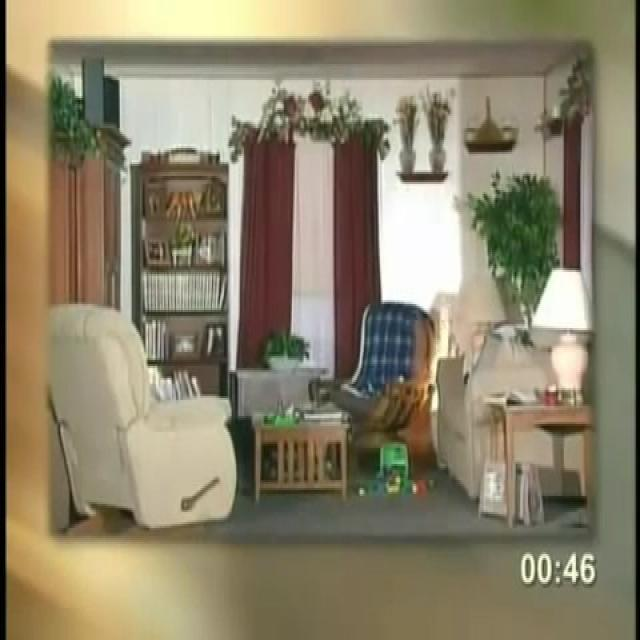Fire: (412, 296, 476, 422)
